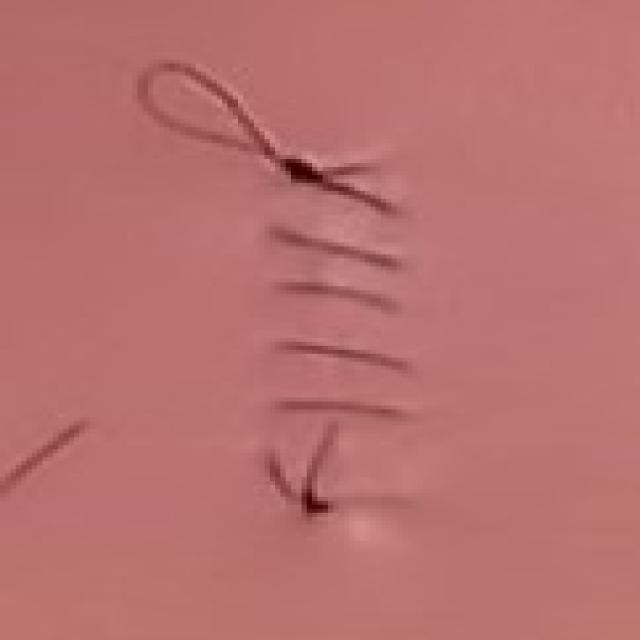suture: (138, 64, 402, 217), (270, 421, 344, 517), (270, 227, 402, 270), (280, 342, 413, 374), (280, 282, 402, 314), (280, 401, 407, 421)
